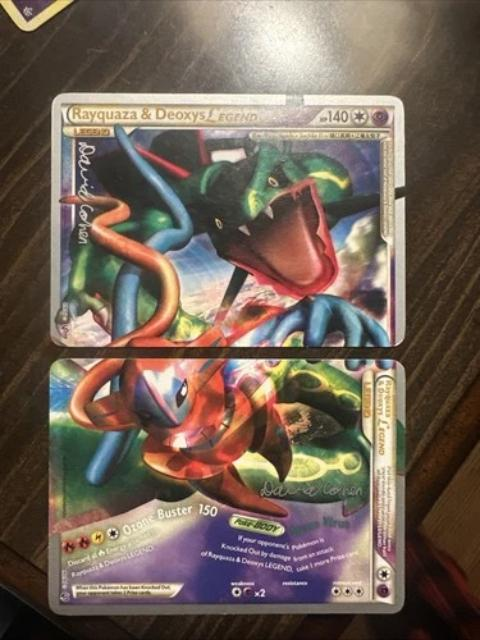Card: (46, 356, 408, 618), (46, 90, 409, 351)
Name: (64, 103, 263, 127), (373, 373, 396, 463)
